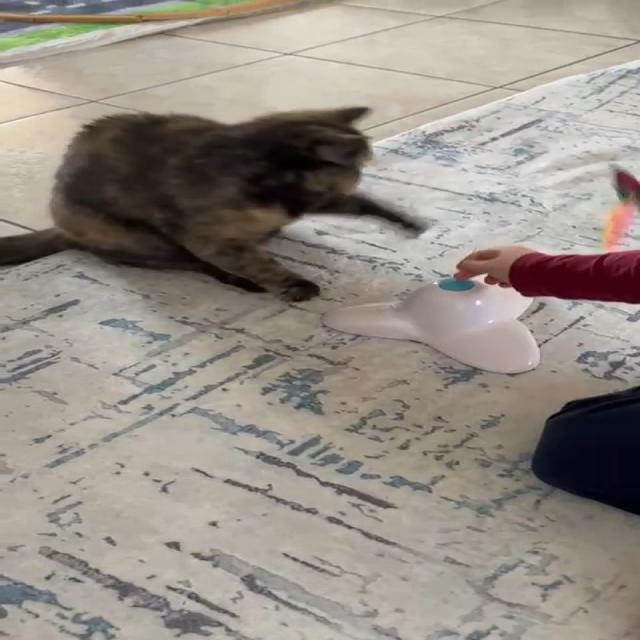authorized: (0, 104, 431, 303)
